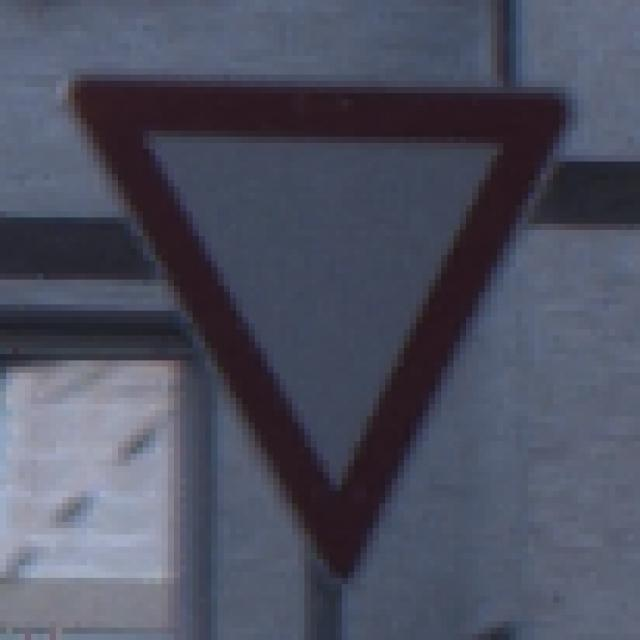Give Way: (57, 57, 585, 585)
